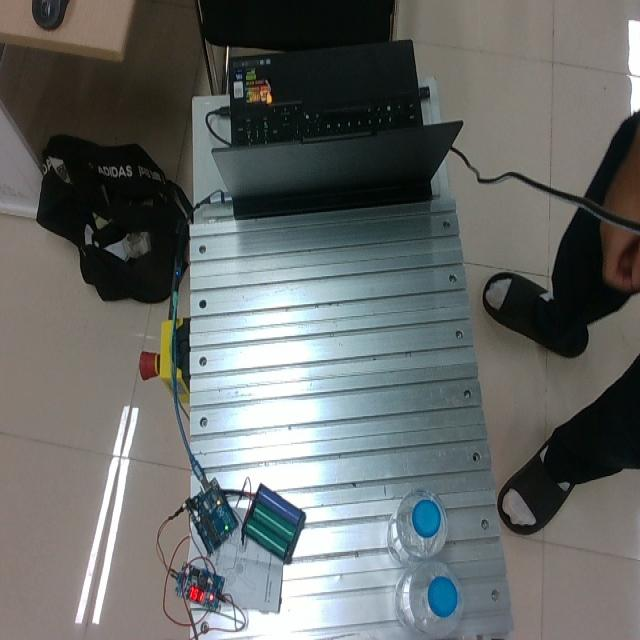lavie: (392, 559, 462, 637), (388, 487, 450, 565)
